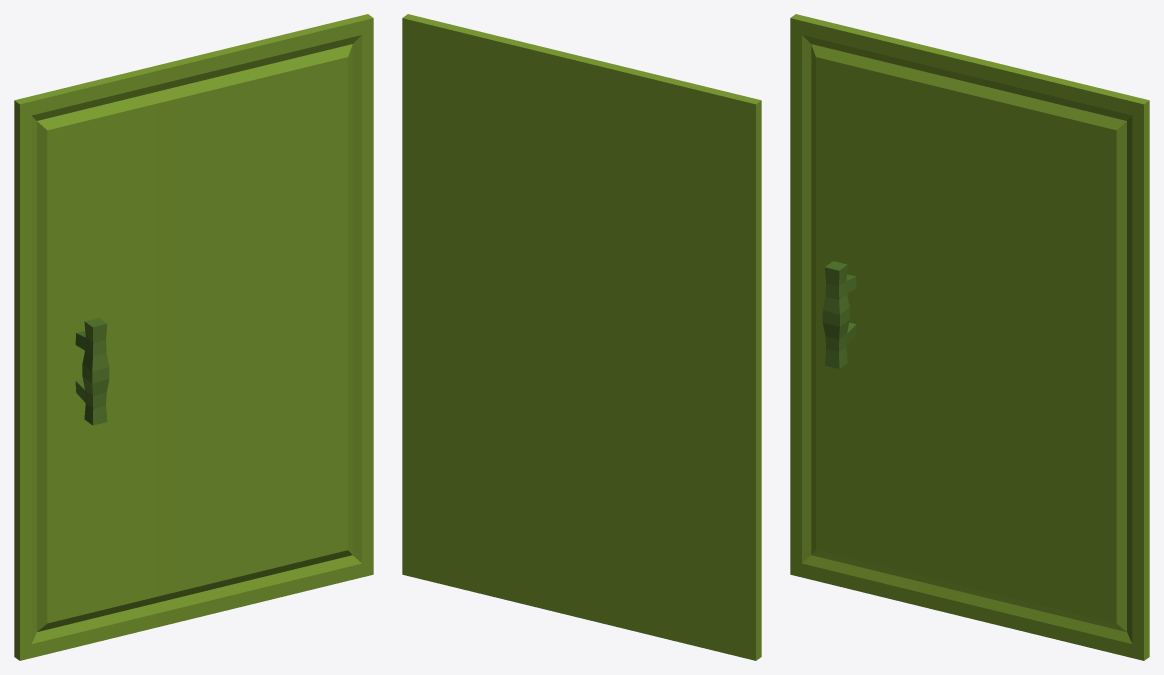
The model's file is InteractiveFurniture18_02.fbx.
The picture shows the model from 3 angles, left to right: view 1: azimuth 30°, elevation 25°; view 2: azimuth 150°, elevation 25°; view 3: azimuth 330°, elevation 25°; orthographic projection.
Visible parts, largest first — view 1: InteractiveFurniture18_02; view 2: InteractiveFurniture18_02; view 3: InteractiveFurniture18_02.
Boxes of the visible parts, x1,y1,x2,y2 form: InteractiveFurniture18_02: (14, 14, 373, 660); InteractiveFurniture18_02: (402, 14, 761, 660); InteractiveFurniture18_02: (790, 14, 1149, 660).
Bounding box in the file's own units: 0.3969 × 0.5966 × 0.0496.
